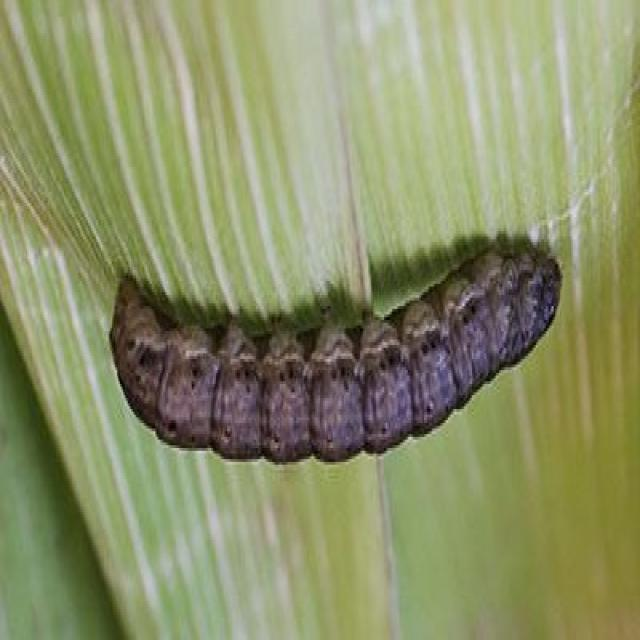black cutworm: (95, 232, 569, 482)
